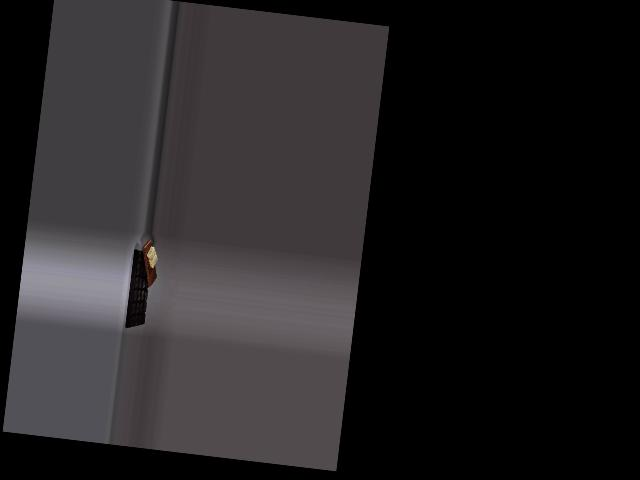chocolate: (122, 244, 156, 330)
